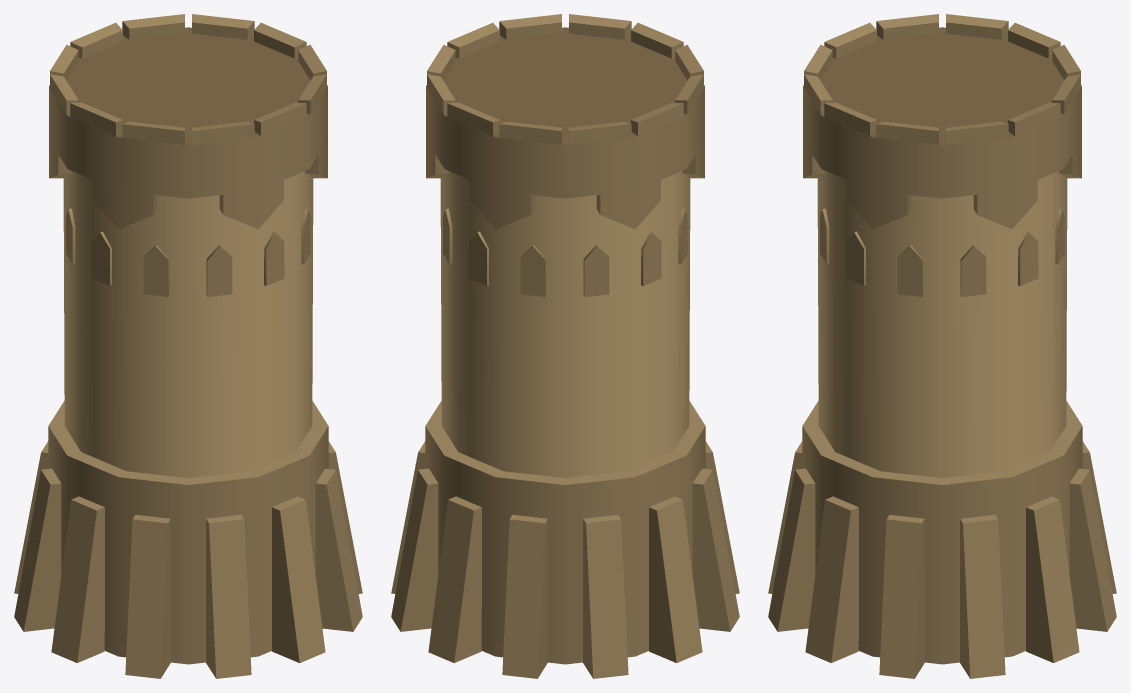
The model's file is wall_tower_small.glb.
3 renders of one model, left to right at view 1: azimuth 30°, elevation 25°; view 2: azimuth 150°, elevation 25°; view 3: azimuth 270°, elevation 25°, orthographic.
Visible parts, largest first — view 1: wall_tower_small; view 2: wall_tower_small; view 3: wall_tower_small.
Boxes of the visible parts, left/top/right/bottom form: wall_tower_small: left=14, top=14, right=362, bottom=678; wall_tower_small: left=391, top=14, right=739, bottom=678; wall_tower_small: left=768, top=14, right=1116, bottom=678.
Bounding box in the file's own units: 6.82 × 11.5 × 6.82.
1 material, 1 textured.
